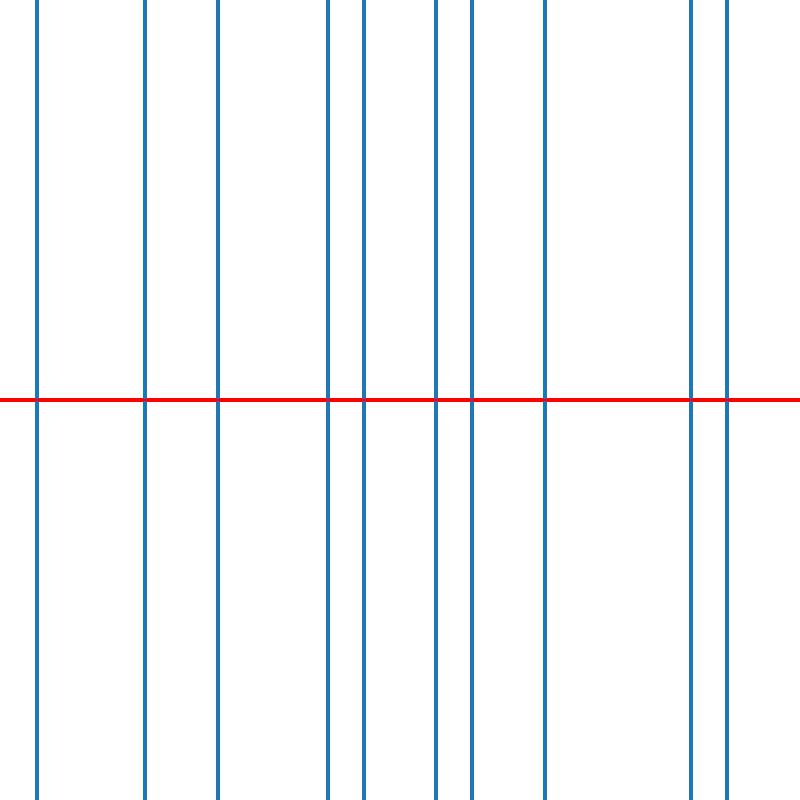root: (32, 396, 40, 404), (141, 396, 149, 404), (432, 396, 440, 404), (541, 396, 549, 404), (323, 396, 330, 404), (723, 396, 730, 404), (687, 396, 694, 404), (469, 396, 476, 404), (214, 396, 221, 404), (360, 396, 367, 404)
